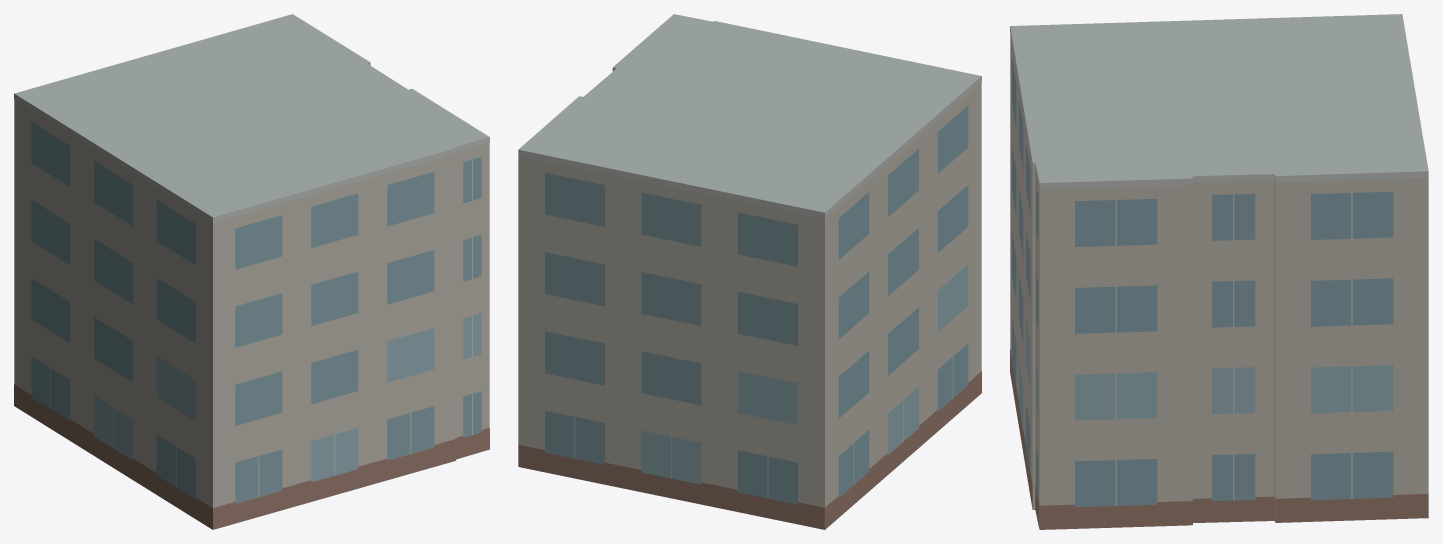
File: survey-upis-32726694.glb
3 renders of one model, left to right at view 1: azimuth 30°, elevation 25°; view 2: azimuth 150°, elevation 25°; view 3: azimuth 270°, elevation 25°, orthographic. The views are drawn at different scales.
Parts seen in each view (by area): view 1: survey-upis-32726694.tmp; view 2: survey-upis-32726694.tmp; view 3: survey-upis-32726694.tmp.
Part boxes in pixels (left/top/right/bottom): survey-upis-32726694.tmp: left=14, top=14, right=489, bottom=529; survey-upis-32726694.tmp: left=518, top=14, right=981, bottom=529; survey-upis-32726694.tmp: left=1010, top=14, right=1428, bottom=529.
Bounding box in the file's own units: 13.6 × 13 × 14.23.
